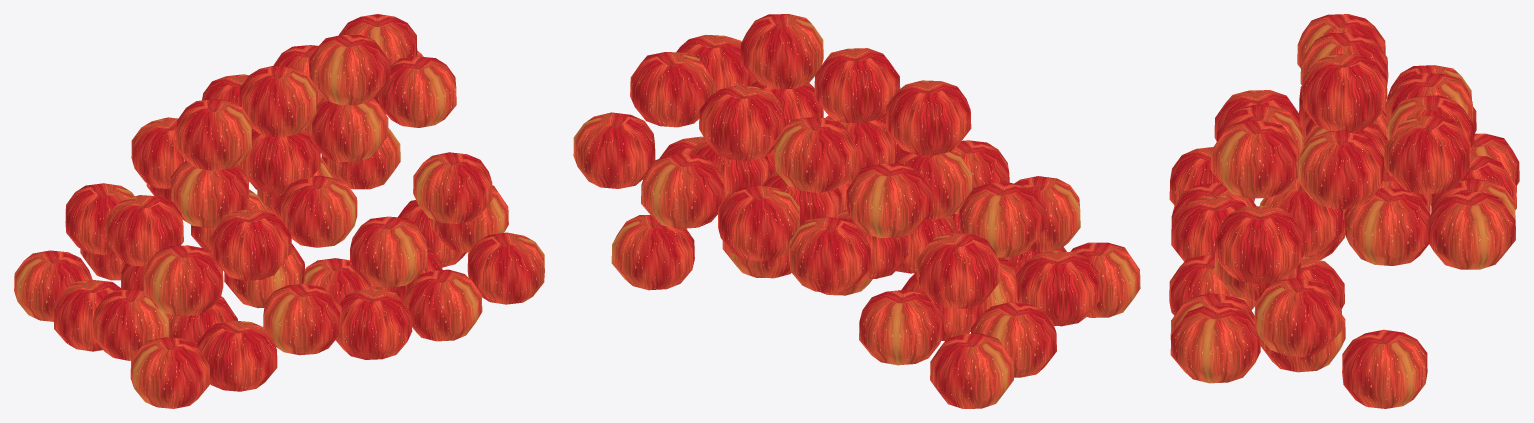
Rendered from vuena-sk-produce-pile-apple.glb.
3 renders of one model, left to right at view 1: azimuth 30°, elevation 25°; view 2: azimuth 150°, elevation 25°; view 3: azimuth 270°, elevation 25°, orthographic. The views are drawn at different scales.
Visible parts, largest first — view 1: sk_produce_pile_apple; view 2: sk_produce_pile_apple; view 3: sk_produce_pile_apple.
Part boxes in pixels (x1,y1,x2,y2): sk_produce_pile_apple: (14,14,544,408); sk_produce_pile_apple: (573,14,1140,408); sk_produce_pile_apple: (1169,14,1519,408).
Size of the model in its own units: 0.4381 by 0.2671 by 0.2945.
Materials: 1 (1 with a texture image).
